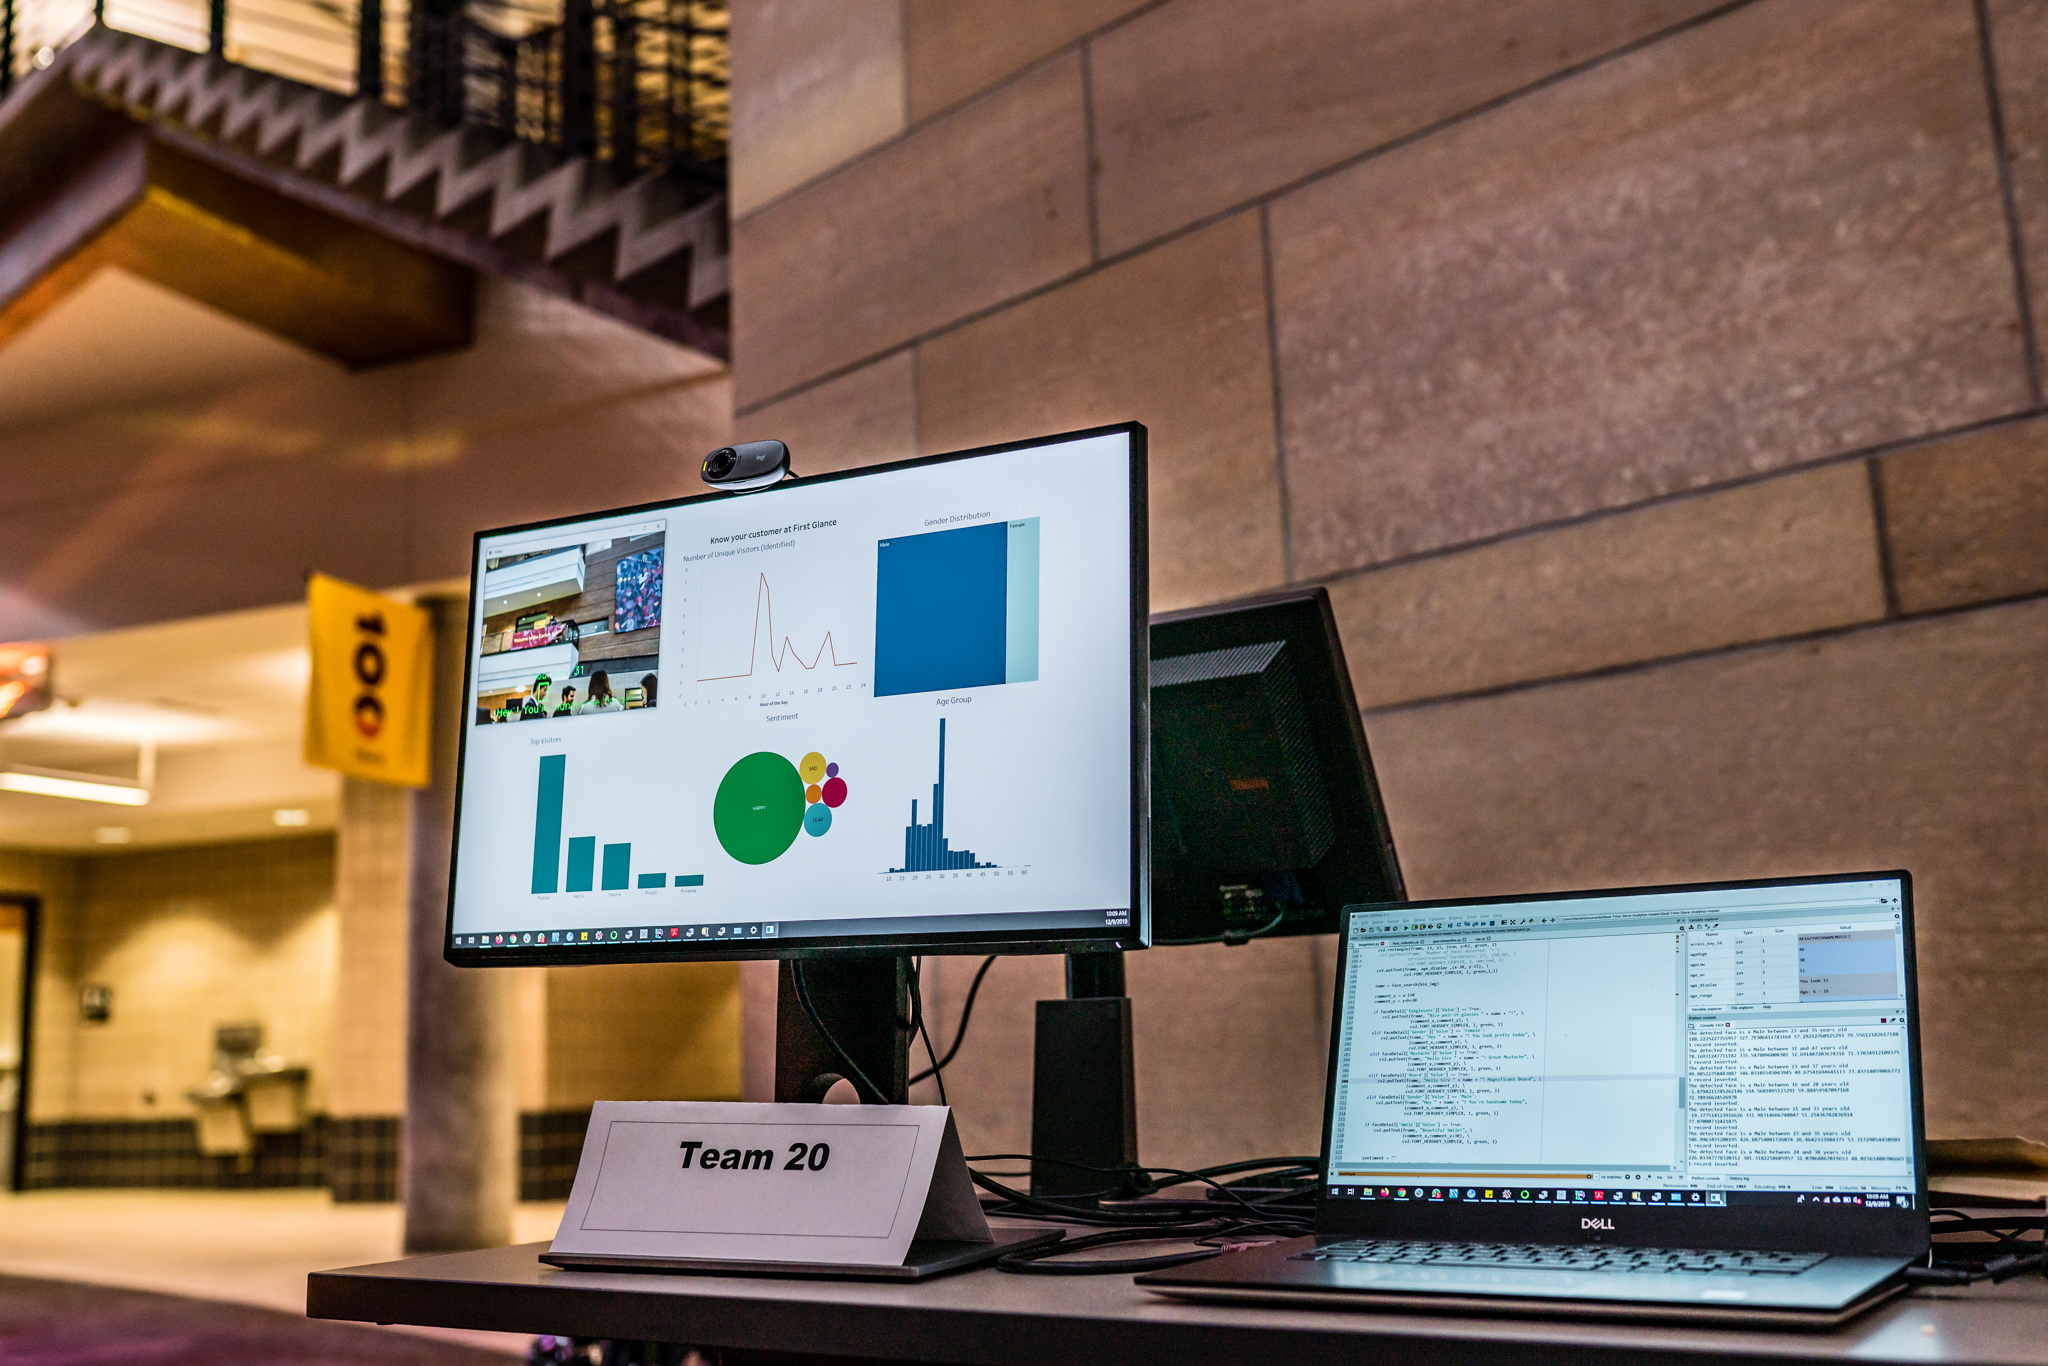

This screenshot's page, from the dashboard's own definition file:
{"tool":"tableau","page":{"name":"Dashboard 1","canvas":[1800,1000],"ordinal":0},"visuals":[{"type":"title","box":[8,8,1784,49]},{"type":"worksheet","title":"Sheet 8","mark":"Automatic","box":[8,57,617,538]},{"type":"worksheet","title":"Sheet 5","mark":"Automatic","rows":["Number of Records"],"cols":["timest"],"box":[625,57,781,538]},{"type":"worksheet","title":"Sheet 2","mark":"Automatic","box":[1406,57,386,538]},{"type":"worksheet","title":"Sheet 1","mark":"Automatic","rows":["Number of Records"],"cols":["name"],"box":[8,595,813,397]},{"type":"worksheet","title":"Sheet 7","mark":"Circle","box":[821,595,485.5,397]},{"type":"worksheet","title":"Sheet 4","mark":"Automatic","rows":["Calculation_1130403570127306752"],"cols":["Average Age (bin)"],"box":[1306.5,595,485.5,397]}]}

Visuals, with their boxes on the page's 1800x1000 design canvas (x1, y1, x2, y2). These are canvas units, not pixel positions in the 2048x1366 screenshot, which may show the page scaled, cropped or inside an application window:
title: {"left": 8, "top": 8, "right": 1792, "bottom": 57}
"Sheet 8" worksheet: {"left": 8, "top": 57, "right": 625, "bottom": 595}
"Sheet 5" worksheet: {"left": 625, "top": 57, "right": 1406, "bottom": 595}
"Sheet 2" worksheet: {"left": 1406, "top": 57, "right": 1792, "bottom": 595}
"Sheet 1" worksheet: {"left": 8, "top": 595, "right": 821, "bottom": 992}
"Sheet 7" worksheet (Circle marks): {"left": 821, "top": 595, "right": 1306, "bottom": 992}
"Sheet 4" worksheet: {"left": 1306, "top": 595, "right": 1792, "bottom": 992}
